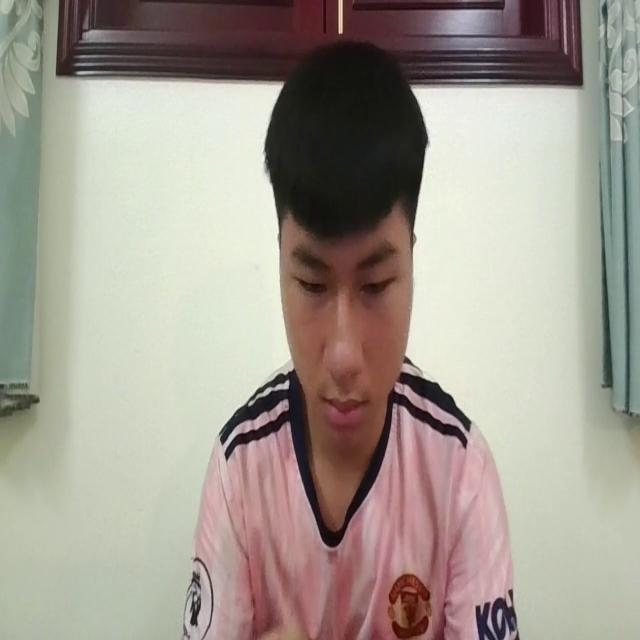student: (182, 33, 516, 640)
